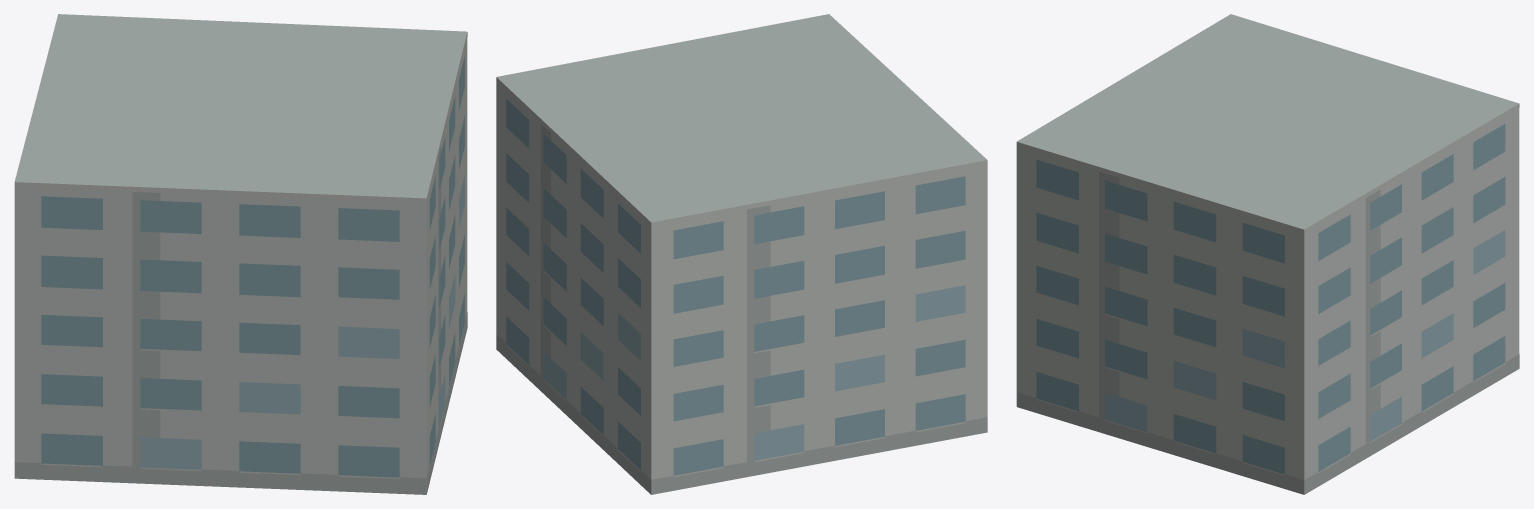
File: survey-upis-32554508.glb
3 views of the same model, side by side, from view 1: azimuth 30°, elevation 25°; view 2: azimuth 150°, elevation 25°; view 3: azimuth 270°, elevation 25° (orthographic). The views are drawn at different scales.
Parts seen in each view (by area): view 1: survey-upis-32554508.tmp; view 2: survey-upis-32554508.tmp; view 3: survey-upis-32554508.tmp.
Boxes of the visible parts, x1,y1,x2,y2 form: survey-upis-32554508.tmp: [14, 14, 467, 494]; survey-upis-32554508.tmp: [496, 14, 987, 494]; survey-upis-32554508.tmp: [1016, 14, 1519, 494].
Bounding box in the file's own units: 24.33 × 13.95 × 23.98.
